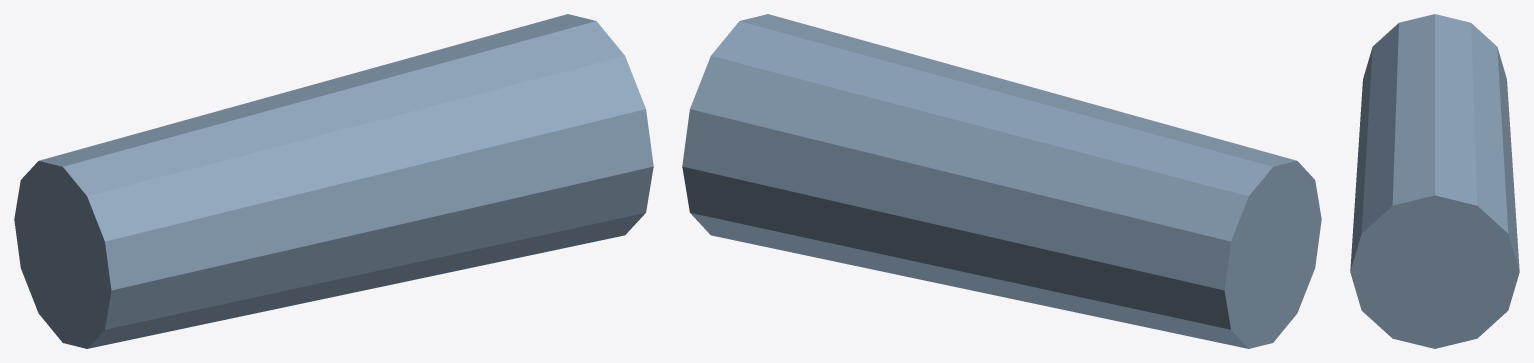
Rendered from bone_12.obj.
3 views of the same model, side by side, from view 1: azimuth 30°, elevation 25°; view 2: azimuth 150°, elevation 25°; view 3: azimuth 270°, elevation 25° (orthographic). The views are drawn at different scales.
Parts seen in each view (by area): view 1: bone_12; view 2: bone_12; view 3: bone_12.
Part boxes in pixels (box(x1,y1,x2,y2)): bone_12: box(14, 14, 653, 348); bone_12: box(682, 14, 1321, 348); bone_12: box(1350, 14, 1519, 348).
Bounding box in the file's own units: 0.0431 × 0.016 × 0.016.
